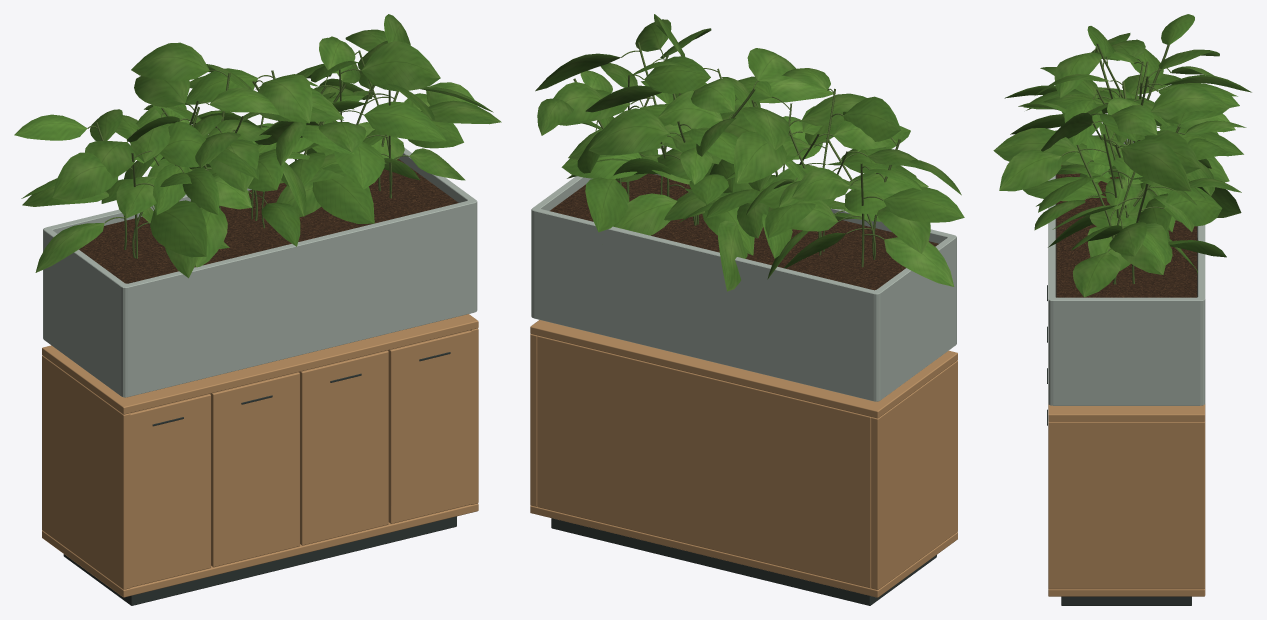
The model's file is botanicalDivider-14.glb.
The picture shows the model from 3 angles, left to right: view 1: azimuth 30°, elevation 25°; view 2: azimuth 150°, elevation 25°; view 3: azimuth 270°, elevation 25°; orthographic projection. The views are drawn at different scales.
Visible parts, largest first — view 1: StoragePlanter_Door (×4), Planter_pothos_leaves, Planter_oiled_oak, StoragePlanter_Side (×2), Planter_loose_soil, StoragePlanter_Top, Planter_matte_accent, StoragePlanter_Bottom, StoragePlanter_Plinth, Planter_pothos_stems; view 2: StoragePlanter_Back, Planter_pothos_leaves, Planter_oiled_oak, StoragePlanter_Side (×2), Planter_loose_soil, StoragePlanter_Top, Planter_matte_accent, StoragePlanter_Plinth, StoragePlanter_Bottom, Planter_pothos_stems; view 3: Planter_pothos_leaves, StoragePlanter_Side, Planter_oiled_oak, Planter_loose_soil, Planter_pothos_stems, StoragePlanter_Top, StoragePlanter_Plinth, StoragePlanter_Bottom.
Boxes of the visible parts, <box> form: StoragePlanter_Door (×4): <box>130,330,472,587</box>; Planter_pothos_leaves: <box>14,14,501,278</box>; Planter_oiled_oak: <box>43,147,477,397</box>; StoragePlanter_Side (×2): <box>42,328,478,589</box>; Planter_loose_soil: <box>79,158,458,283</box>; StoragePlanter_Top: <box>42,314,478,414</box>; Planter_matte_accent: <box>133,276,469,374</box>; StoragePlanter_Bottom: <box>42,503,478,597</box>; StoragePlanter_Plinth: <box>63,516,456,605</box>; Planter_pothos_stems: <box>87,50,409,258</box>; StoragePlanter_Back: <box>537,335,871,588</box>; Planter_pothos_leaves: <box>535,14,964,291</box>; Planter_oiled_oak: <box>531,174,956,401</box>; StoragePlanter_Side (×2): <box>530,334,957,589</box>; Planter_loose_soil: <box>550,173,938,290</box>; StoragePlanter_Top: <box>530,320,957,418</box>; Planter_matte_accent: <box>539,283,868,379</box>; StoragePlanter_Plinth: <box>551,518,936,605</box>; StoragePlanter_Bottom: <box>530,505,957,597</box>; Planter_pothos_stems: <box>573,42,900,267</box>; Planter_pothos_leaves: <box>993,14,1251,297</box>; StoragePlanter_Side: <box>1048,421,1205,589</box>; Planter_oiled_oak: <box>1048,135,1205,405</box>; Planter_loose_soil: <box>1056,165,1196,297</box>; Planter_pothos_stems: <box>1062,43,1185,284</box>; StoragePlanter_Top: <box>1048,404,1205,421</box>; StoragePlanter_Plinth: <box>1061,596,1191,605</box>; StoragePlanter_Bottom: <box>1048,588,1205,596</box>.
Size of the model in its own units: 1.46 by 1.58 by 0.7924.
9 materials, 2 textured.
